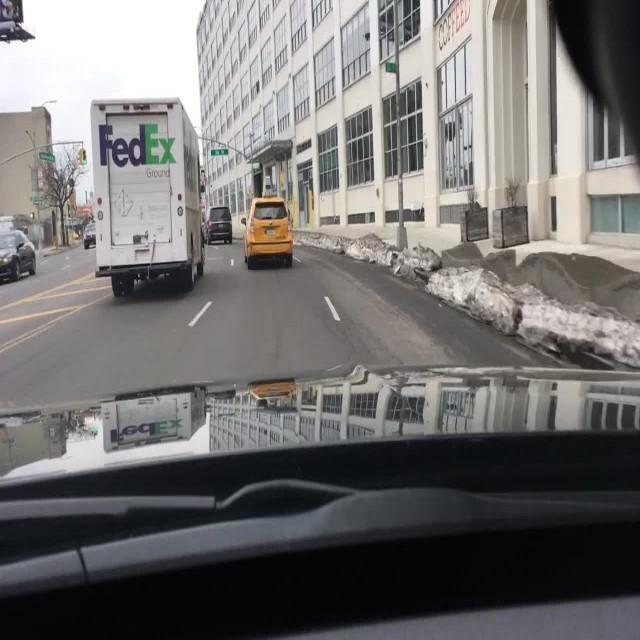normal: (97, 94, 210, 294), (235, 182, 308, 279), (0, 230, 37, 283), (203, 204, 234, 244), (82, 222, 96, 248)
